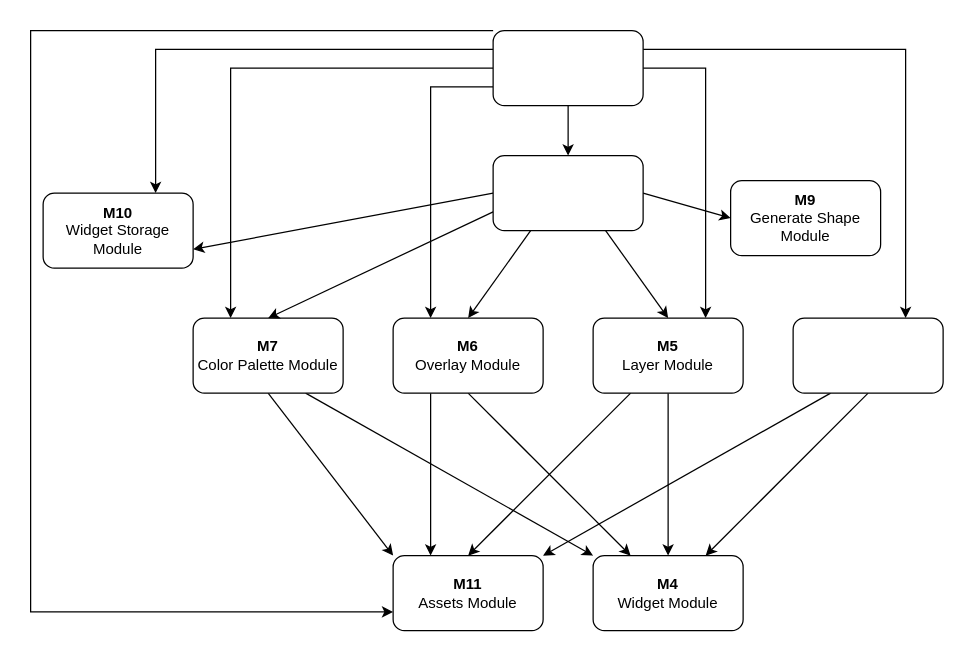
The diagram is 965 pixels wide and 653 high, and some of its shapes have lost their labels. The shapes that lost their labels are listed below. From the top down, each one's centre as x and y in pixels, then its label:
At [567,67]: "M2 Controller UI Module".
At [567,192]: "M3 Canvas Module".
At [867,355]: "M8 Help Module".
